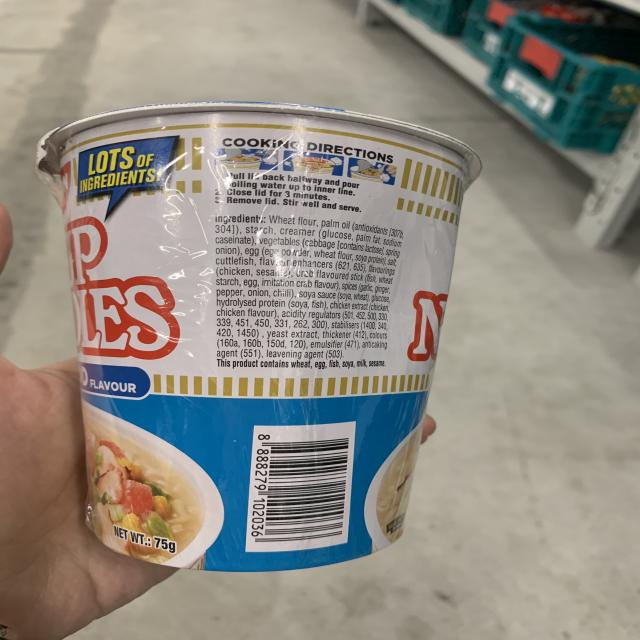object_name: (71, 118, 419, 574)
